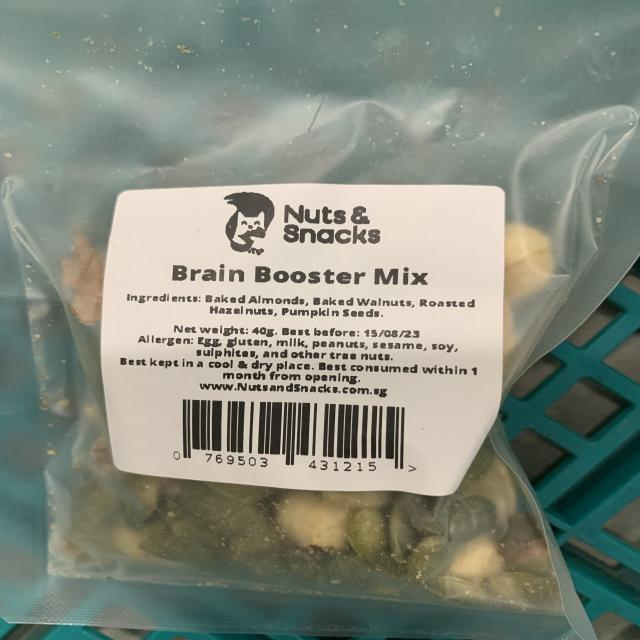object_name: (5, 0, 615, 640)
